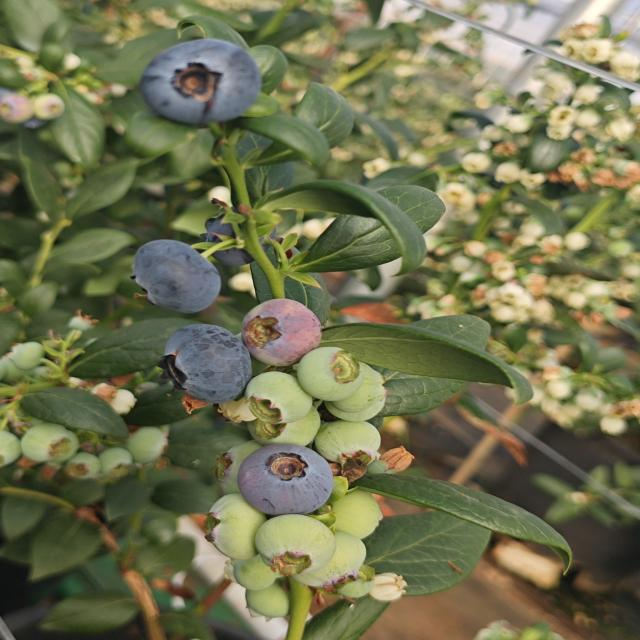ripe: (140, 37, 264, 126), (152, 322, 261, 405), (123, 234, 222, 318), (236, 440, 338, 519), (200, 208, 278, 268)
